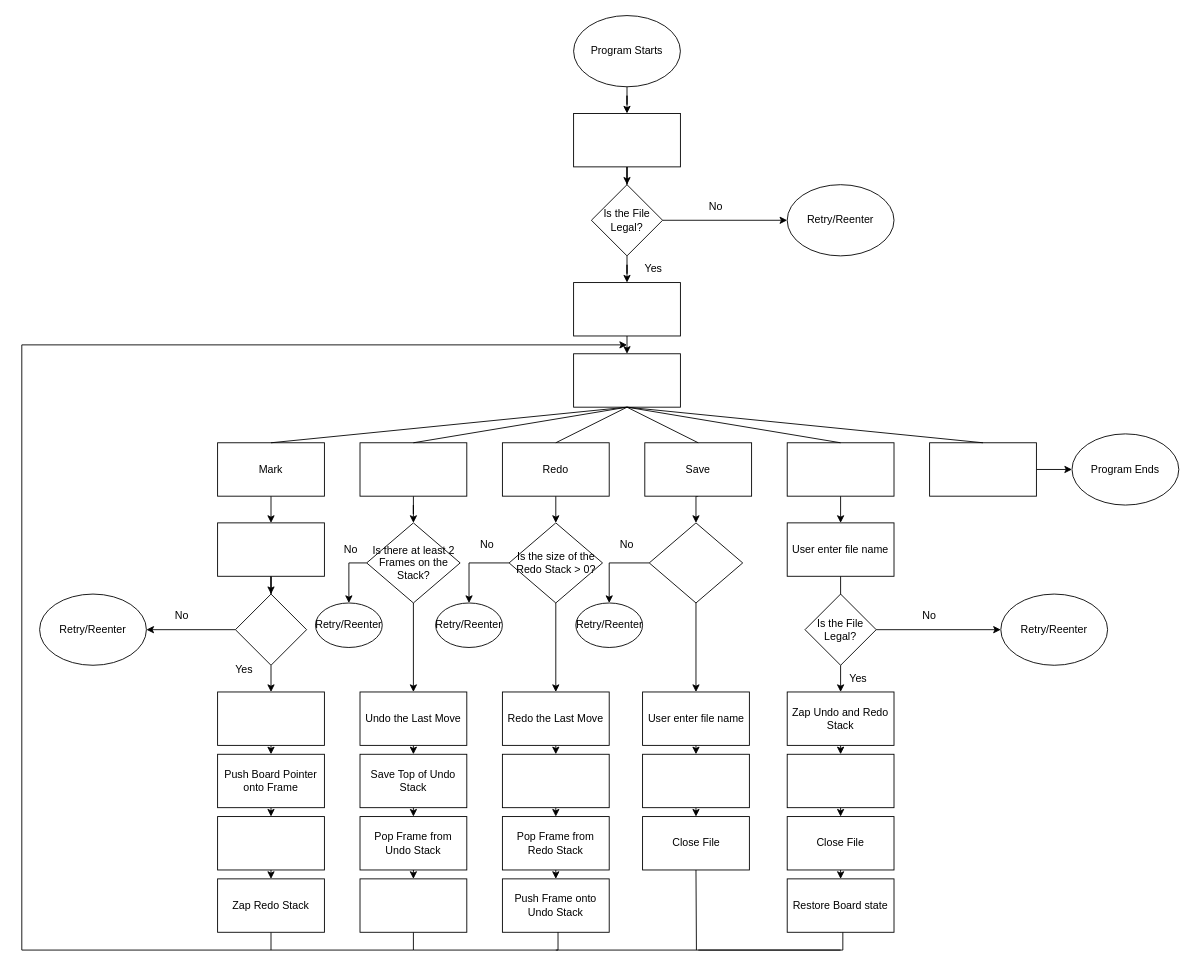
The diagram is 1194 pixels wide and 973 high, and some of its shapes have lost their labels. The shapes that lost their labels are listed below. From the top down, each one's box as (x1, y1, x2, y2) in pixels, then its label:
(573, 113, 680, 167): User Enters File Name
(573, 282, 680, 336): Create Game (Board) and Display Stats
(573, 353, 680, 407): Display Game Menu
(359, 442, 467, 496): Undo
(786, 442, 894, 496): Restore
(929, 442, 1036, 496): Quit
(217, 522, 324, 576): User Enters Row, Column, and Value
(648, 522, 743, 603): Is the size of the Undo Stack > 0?
(235, 593, 307, 665): Is the Input Legal?
(217, 691, 324, 745): Mark the Square
(502, 753, 609, 808): Save Top of Redo Stack
(642, 753, 749, 808): Print state of every square into save file
(786, 753, 894, 808): Make new frame. Push states into vector from save file
(217, 816, 324, 870): Push Frame onto Stack
(359, 878, 467, 932): Push Frame onto Redo Stack
